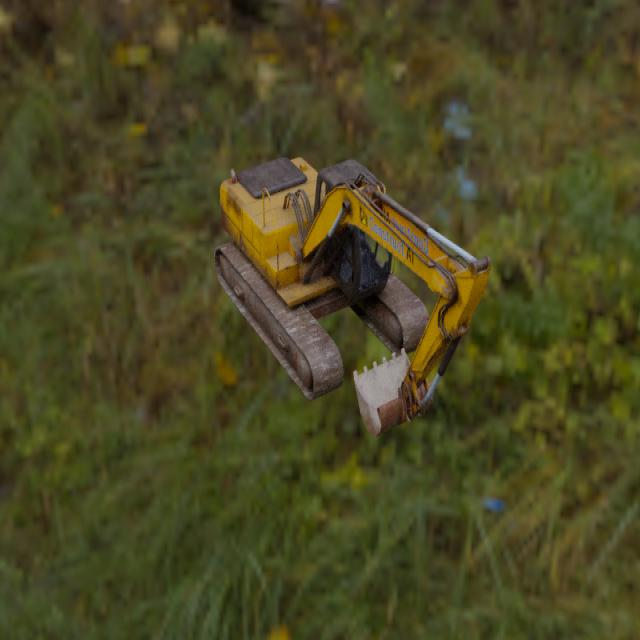excavator: (213, 156, 491, 436)
